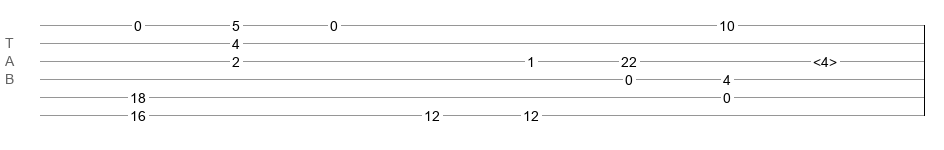0: (134, 18, 142, 28), (330, 18, 338, 28), (625, 72, 633, 82), (723, 90, 731, 100)
1: (527, 54, 535, 64)
10: (719, 18, 735, 28)
12: (424, 108, 440, 118), (523, 108, 539, 118)
16: (130, 108, 146, 118)
18: (130, 90, 146, 100)
2: (232, 54, 240, 64)
22: (621, 54, 637, 64)
4: (232, 36, 240, 46), (723, 72, 731, 82)
5: (232, 18, 240, 28)
harmonic: (813, 54, 837, 64)
